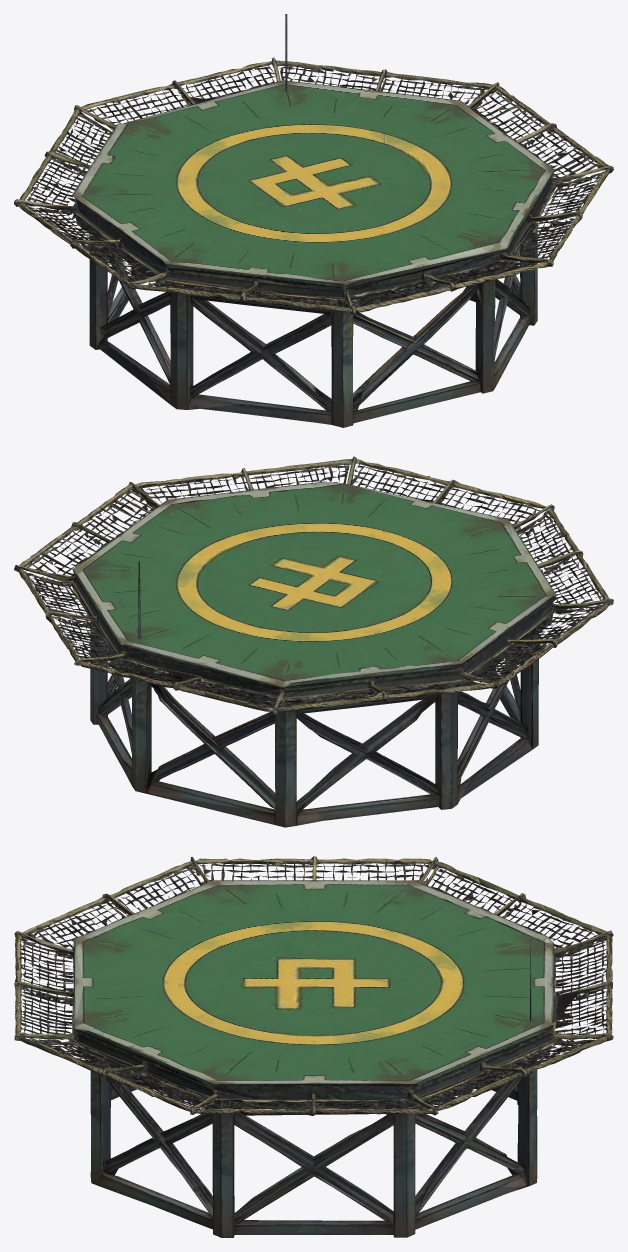
The model's file is helideck.glb.
The picture shows the model from 3 angles, top to bottom: view 1: azimuth 30°, elevation 25°; view 2: azimuth 150°, elevation 25°; view 3: azimuth 270°, elevation 25°; orthographic projection. The views are drawn at different scales.
Bounding box in the file's own units: 1.9 × 0.8502 × 1.9.
Materials: 1 (1 with a texture image).
